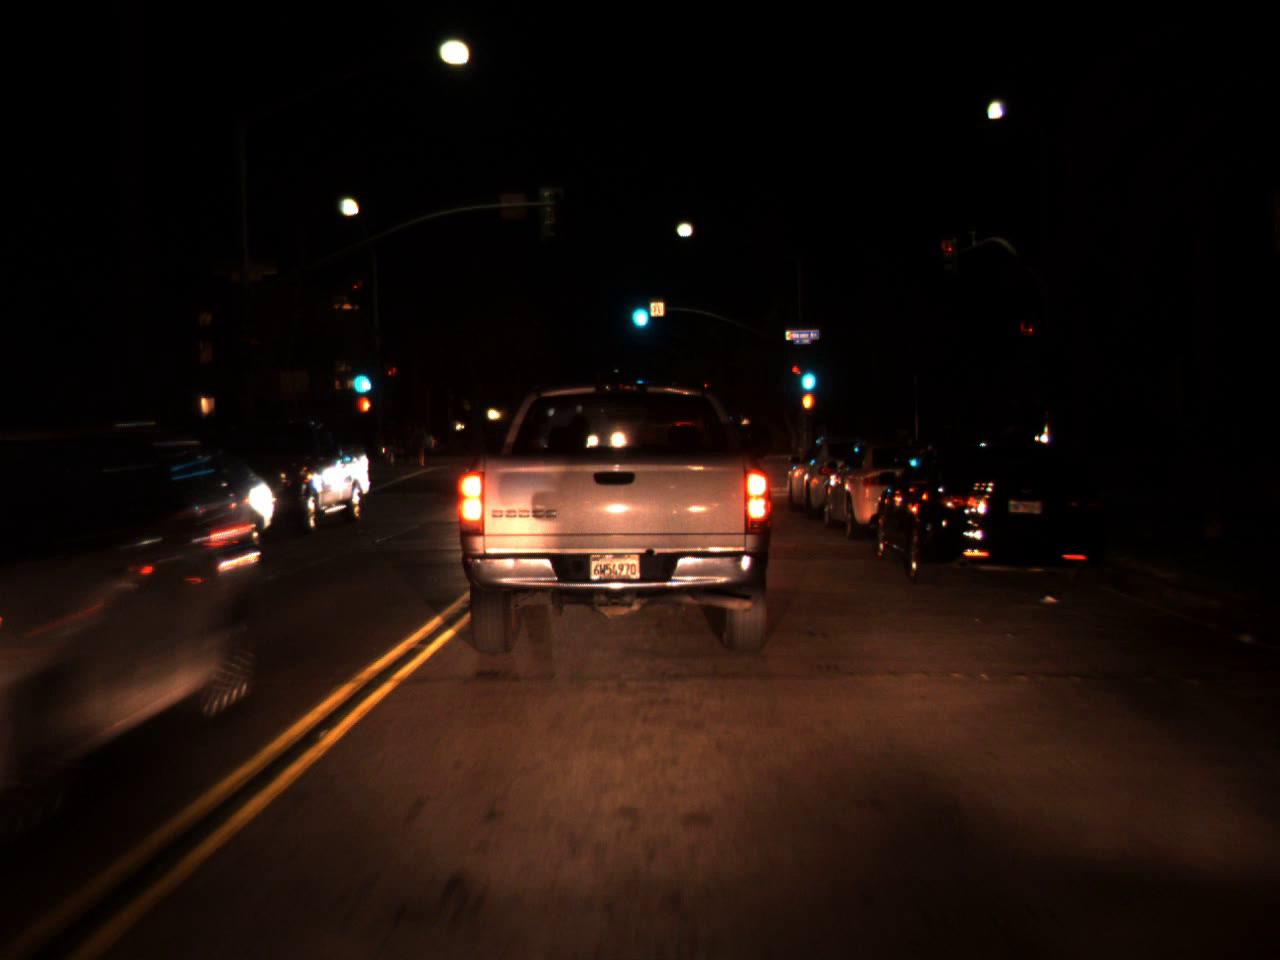go: (348, 352, 373, 400), (627, 286, 652, 334), (795, 351, 818, 396)
